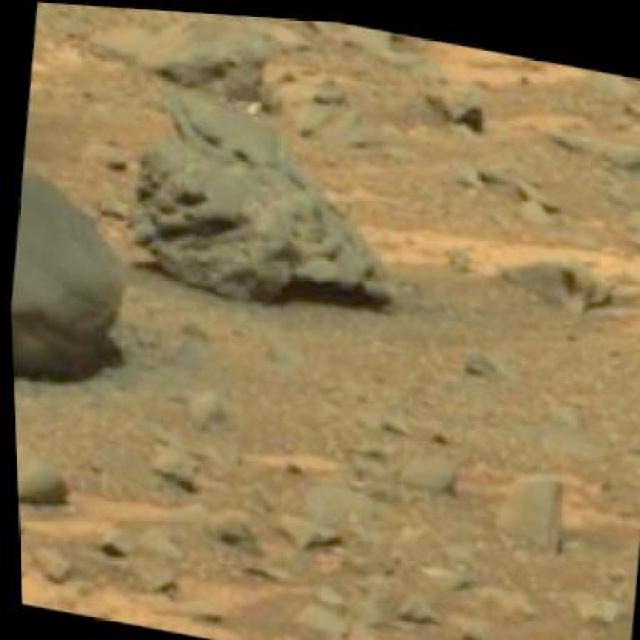rock: (115, 125, 419, 322), (5, 161, 132, 394), (488, 453, 564, 544), (13, 437, 69, 506)
